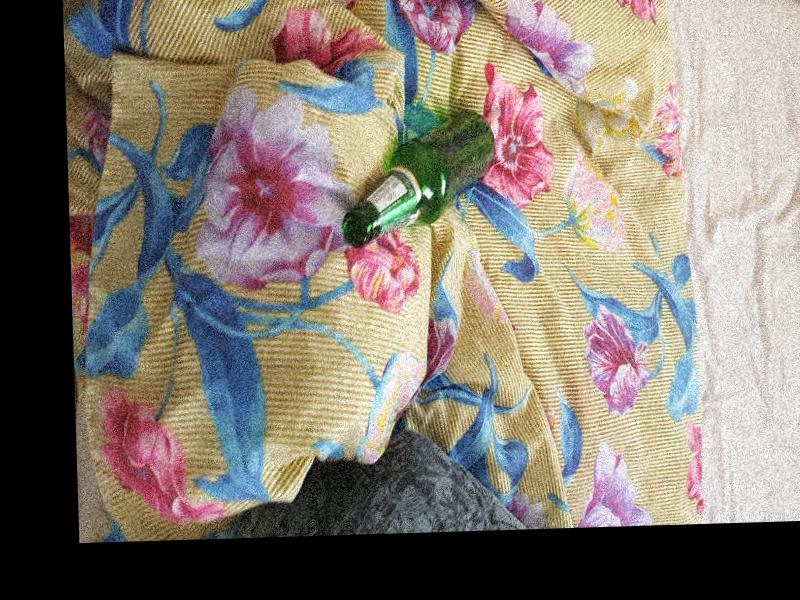Beer: (337, 109, 496, 245)
